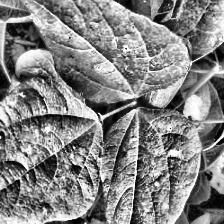Bean Rust: (0, 0, 190, 100), (0, 77, 104, 223), (104, 107, 200, 224), (130, 0, 224, 55)
